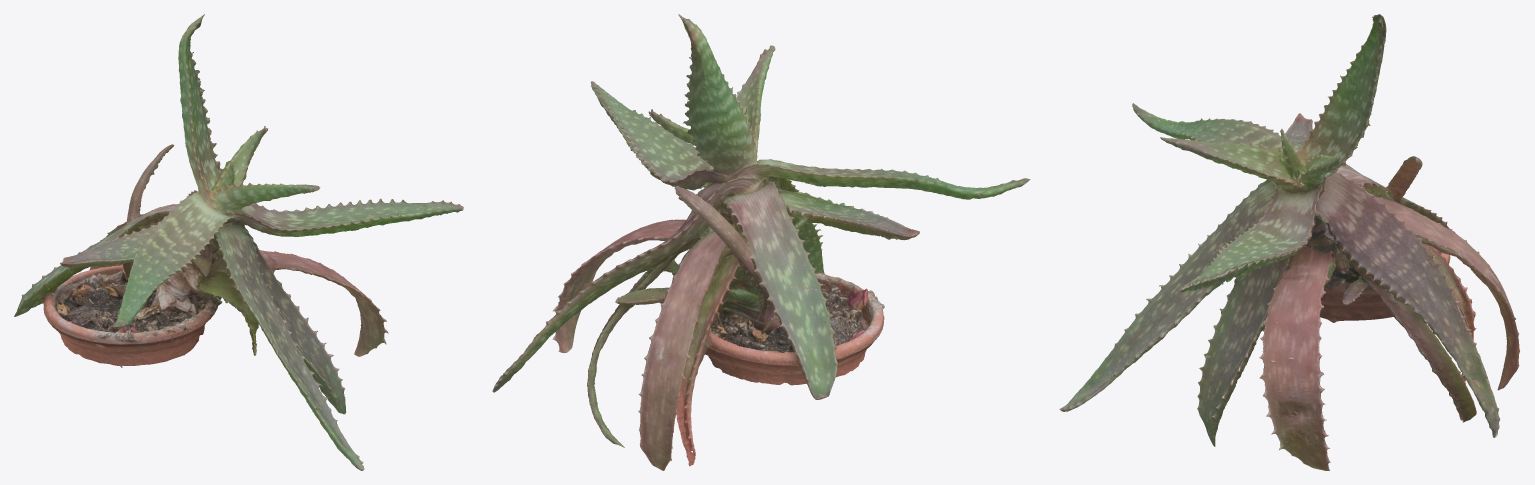
Rendered from sf-aloe-vera-plant-66c669.glb.
The picture shows the model from 3 angles, left to right: view 1: azimuth 30°, elevation 25°; view 2: azimuth 150°, elevation 25°; view 3: azimuth 270°, elevation 25°; orthographic projection. The views are drawn at different scales.
Parts seen in each view (by area): view 1: Model_material0_0, Model_material1_0, Model_material2_0; view 2: Model_material2_0, Model_material0_0, Model_material1_0; view 3: Model_material1_0, Model_material0_0, Model_material2_0.
Boxes of the visible parts, bbox=[...] form: Model_material0_0: bbox=[60, 14, 457, 389]; Model_material1_0: bbox=[41, 14, 437, 470]; Model_material2_0: bbox=[14, 89, 463, 371]; Model_material2_0: bbox=[552, 81, 1030, 452]; Model_material0_0: bbox=[492, 14, 1017, 466]; Model_material1_0: bbox=[546, 14, 1029, 470]; Model_material1_0: bbox=[1059, 14, 1519, 450]; Model_material0_0: bbox=[1137, 16, 1519, 470]; Model_material2_0: bbox=[1132, 83, 1516, 470].
Bounding box in the file's own units: 3.77 × 3.55 × 3.67.
Materials: 3 (3 with a texture image).
